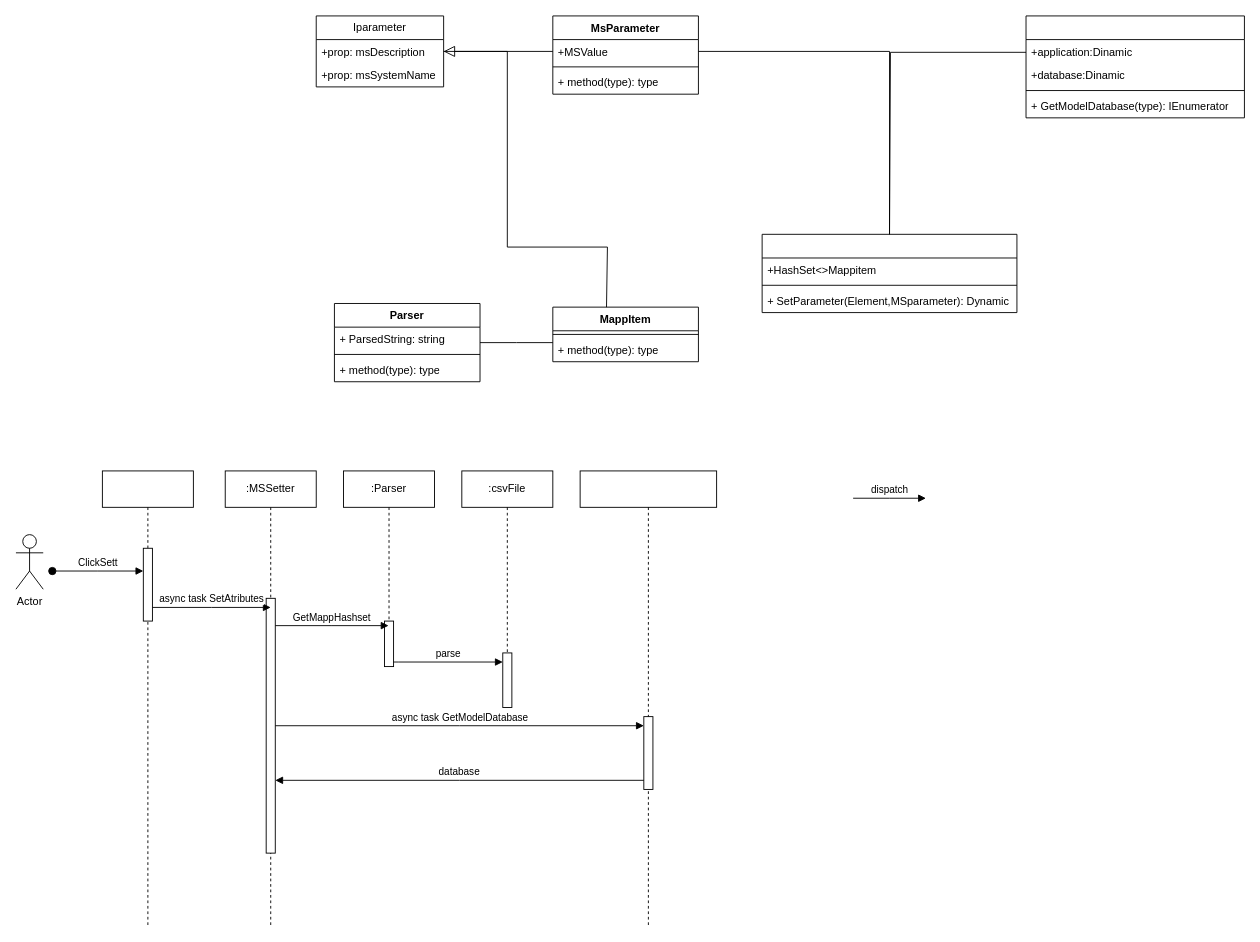
Image size: 1260x942. Some labels were removed from this diagram. The box of each missing label's shape, as (x1, y1, x2, y2) in pixels:
:MSConnectionSingleton: (579, 470, 717, 926)
MSConnctionSingleton: (1025, 15, 1244, 118)
MSSetter: (761, 233, 1017, 313)
Window: (101, 470, 193, 926)
